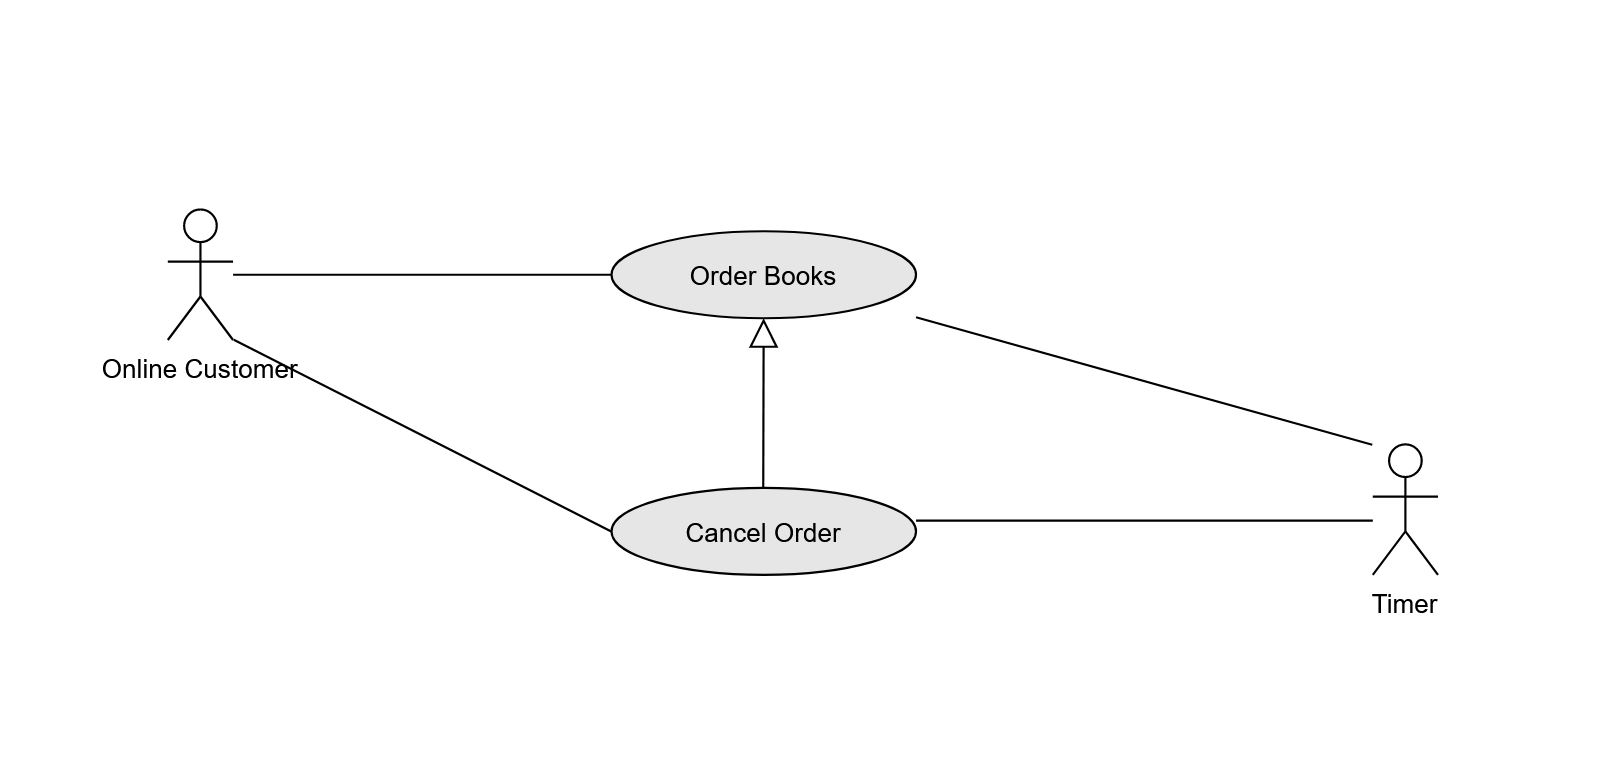actor: (1369, 444, 1442, 576), (164, 205, 229, 337)
association: (227, 335, 613, 532), (918, 313, 1379, 450), (232, 252, 607, 301), (915, 498, 1378, 536)
generalization: (746, 322, 784, 491)
text: (94, 345, 301, 386), (687, 254, 852, 297), (675, 517, 864, 548), (1361, 585, 1455, 622)
use_case: (607, 227, 918, 320), (610, 484, 916, 577)
